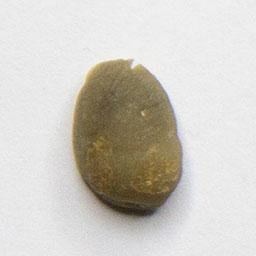peaberry: (68, 55, 186, 213)
